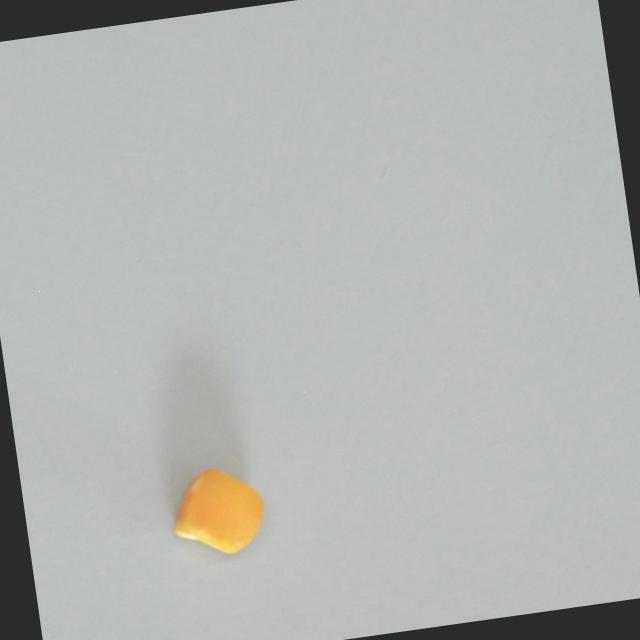no_canjicado: (168, 460, 270, 562)
